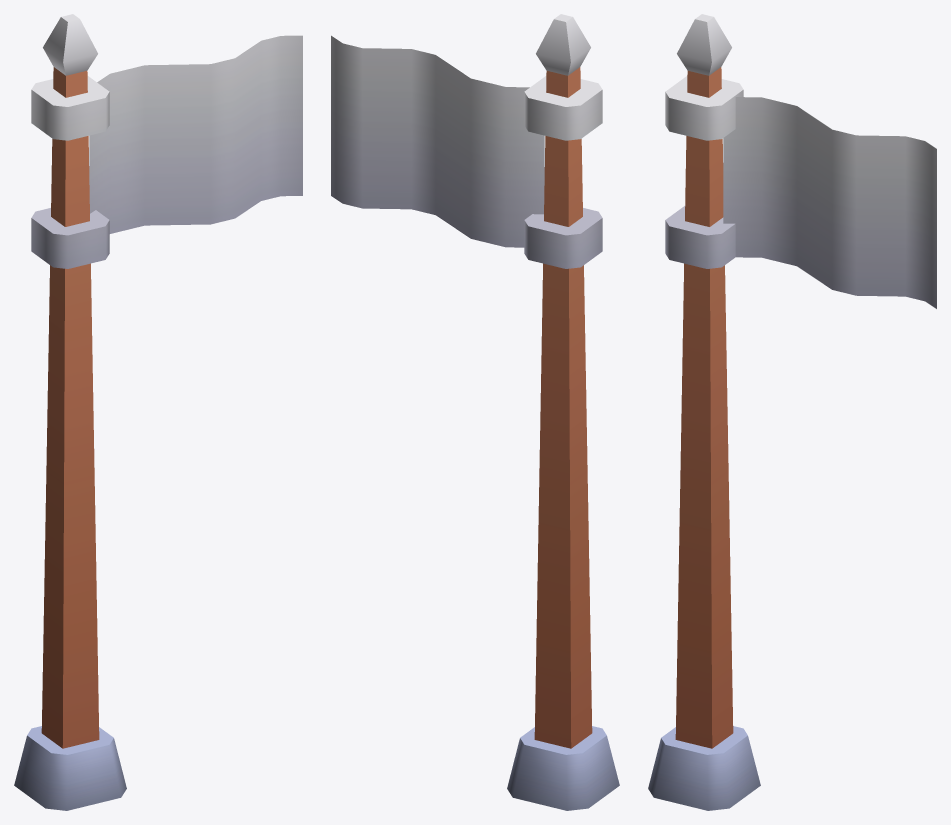
File: flag-high.glb
3 views of the same model, side by side, from view 1: azimuth 30°, elevation 25°; view 2: azimuth 150°, elevation 25°; view 3: azimuth 330°, elevation 25° (orthographic).
Visible parts, largest first — view 1: flag-high; view 2: flag-high; view 3: flag-high.
Boxes of the visible parts, x1=… form: flag-high: x1=14, y1=14, x2=302, y2=810; flag-high: x1=331, y1=14, x2=619, y2=810; flag-high: x1=648, y1=14, x2=936, y2=810.
Size of the model in its own units: 1.34 by 3.6 by 0.3989.
Materials: 1 (1 with a texture image).
